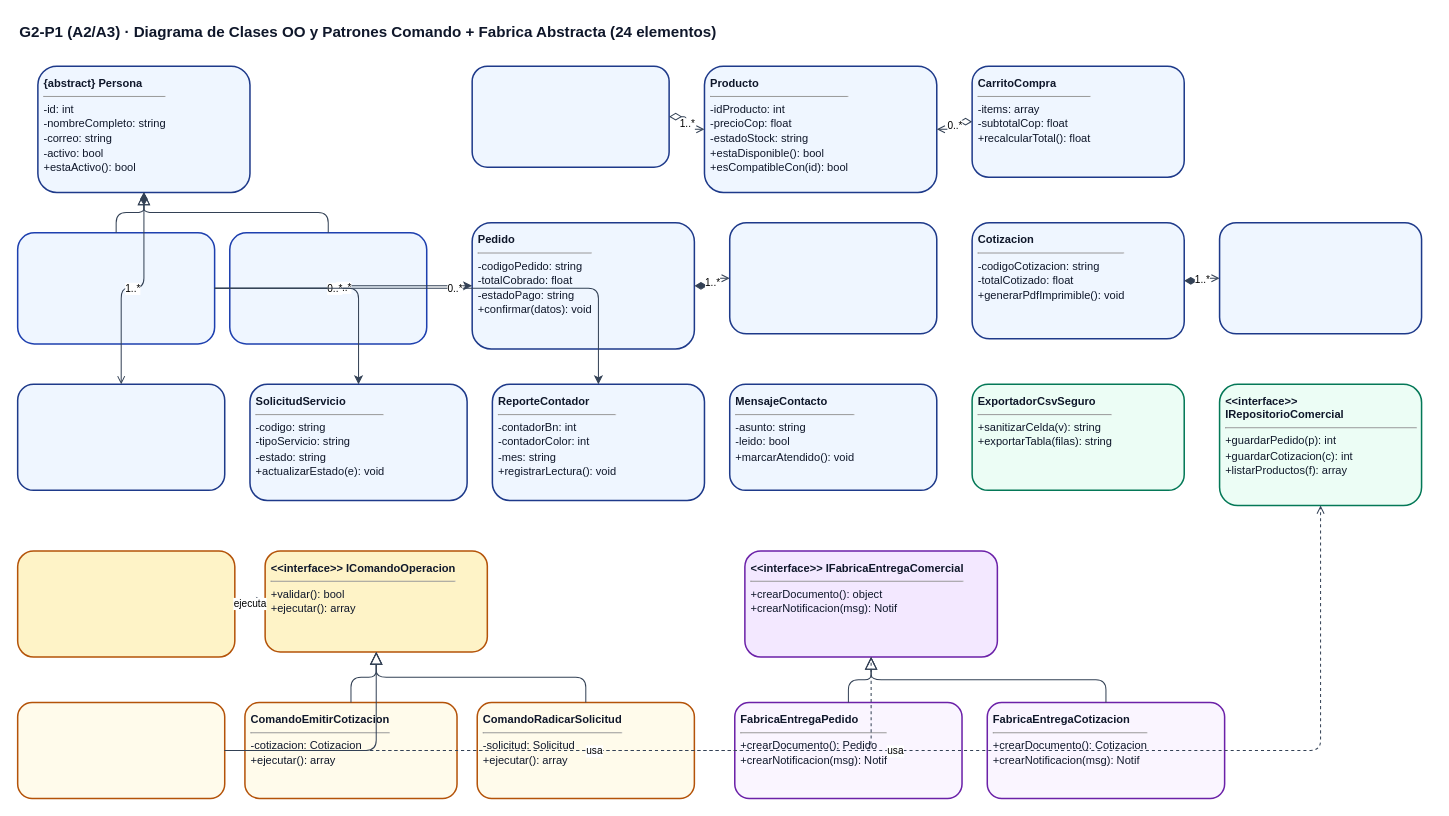
This 1449x816 diagram has some shape labels left out. The shapes that lost their labels are listed below. From the top down, each one's box as (x1, y1, x2, y2) in pixels, then its label:
(471, 65, 669, 167): Categoria -idCategoria: int -slug: string +obtenerResumen(): string
(16, 232, 215, 344): Cliente -documento: string -ciudad: string +esTitular(): bool
(229, 232, 427, 344): Administrador -cargo: string -ultimoIngreso: datetime +puedeAdministrar(): bool
(729, 221, 937, 334): DetallePedido -cantidad: int -precioPactado: float +calcularSubtotal(): float
(1218, 221, 1422, 334): DetalleCotizacion -cantidad: int -precioCotizado: float +calcularLinea(): float
(16, 383, 225, 491): Notificacion -titulo: string -leida: bool +marcarLeida(): void
(16, 550, 235, 657): DespachadorComandos [Cmd] -historial: array +despachar(cmd): mixed
(16, 701, 225, 799): ComandoConfirmarPedido -pedido: Pedido +ejecutar(): array
